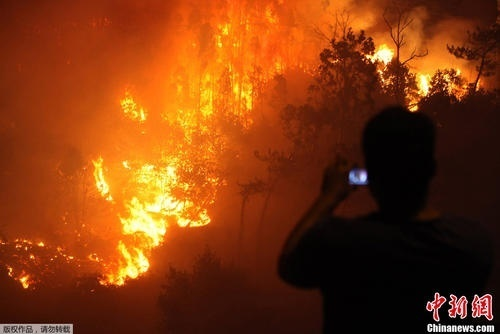fire: (81, 17, 255, 299), (359, 39, 469, 107), (0, 231, 54, 290)
